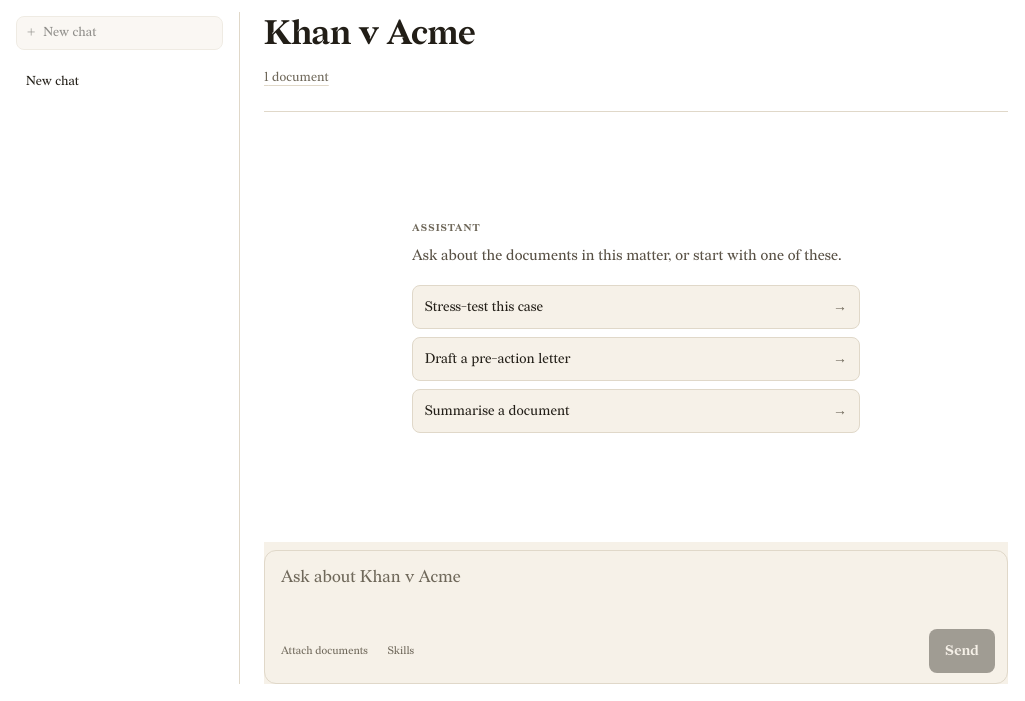
Test: AssistantTab — header document popover › navigates to the document on row click and closes the popover
Click the button with test id "docs-context-status": click(296, 77) top-left (264, 68), bottom-right (329, 87)
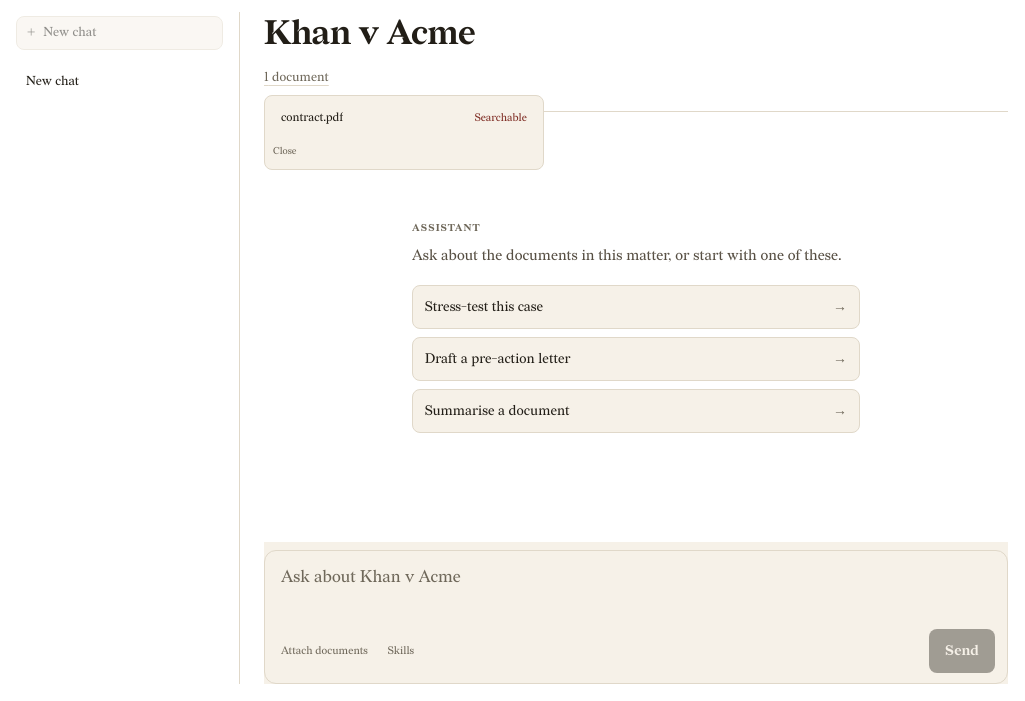
Click the menu item with test id "chat-docs-row-doc-1": click(312, 118) top-left (273, 104), bottom-right (535, 132)
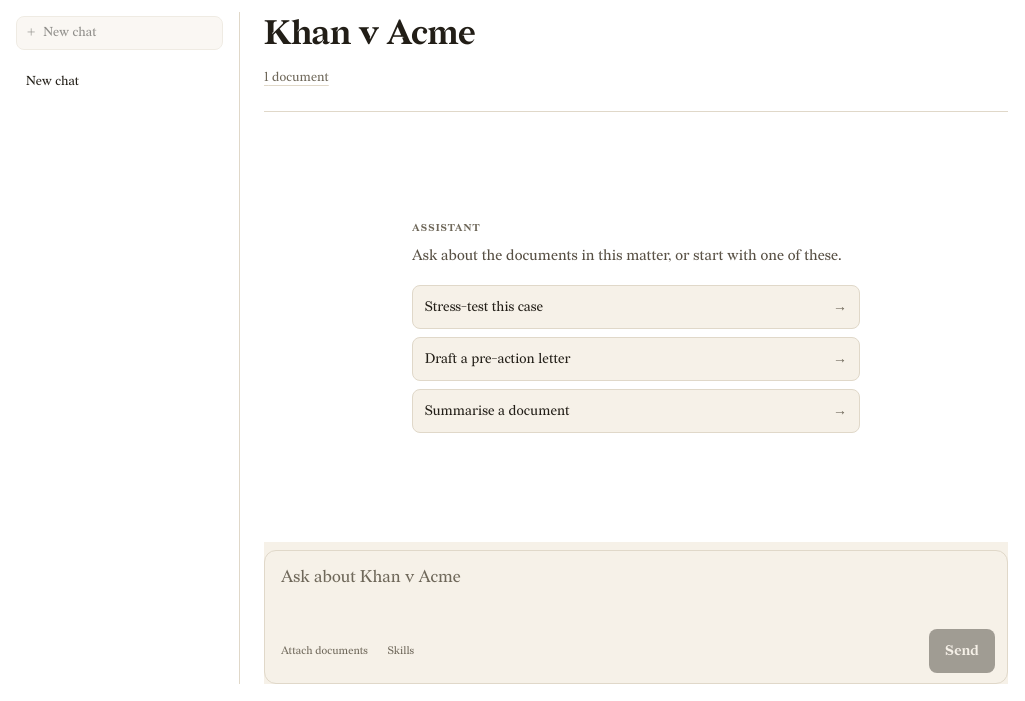
Expected: the element with test id "chat-docs-popover" is gone
